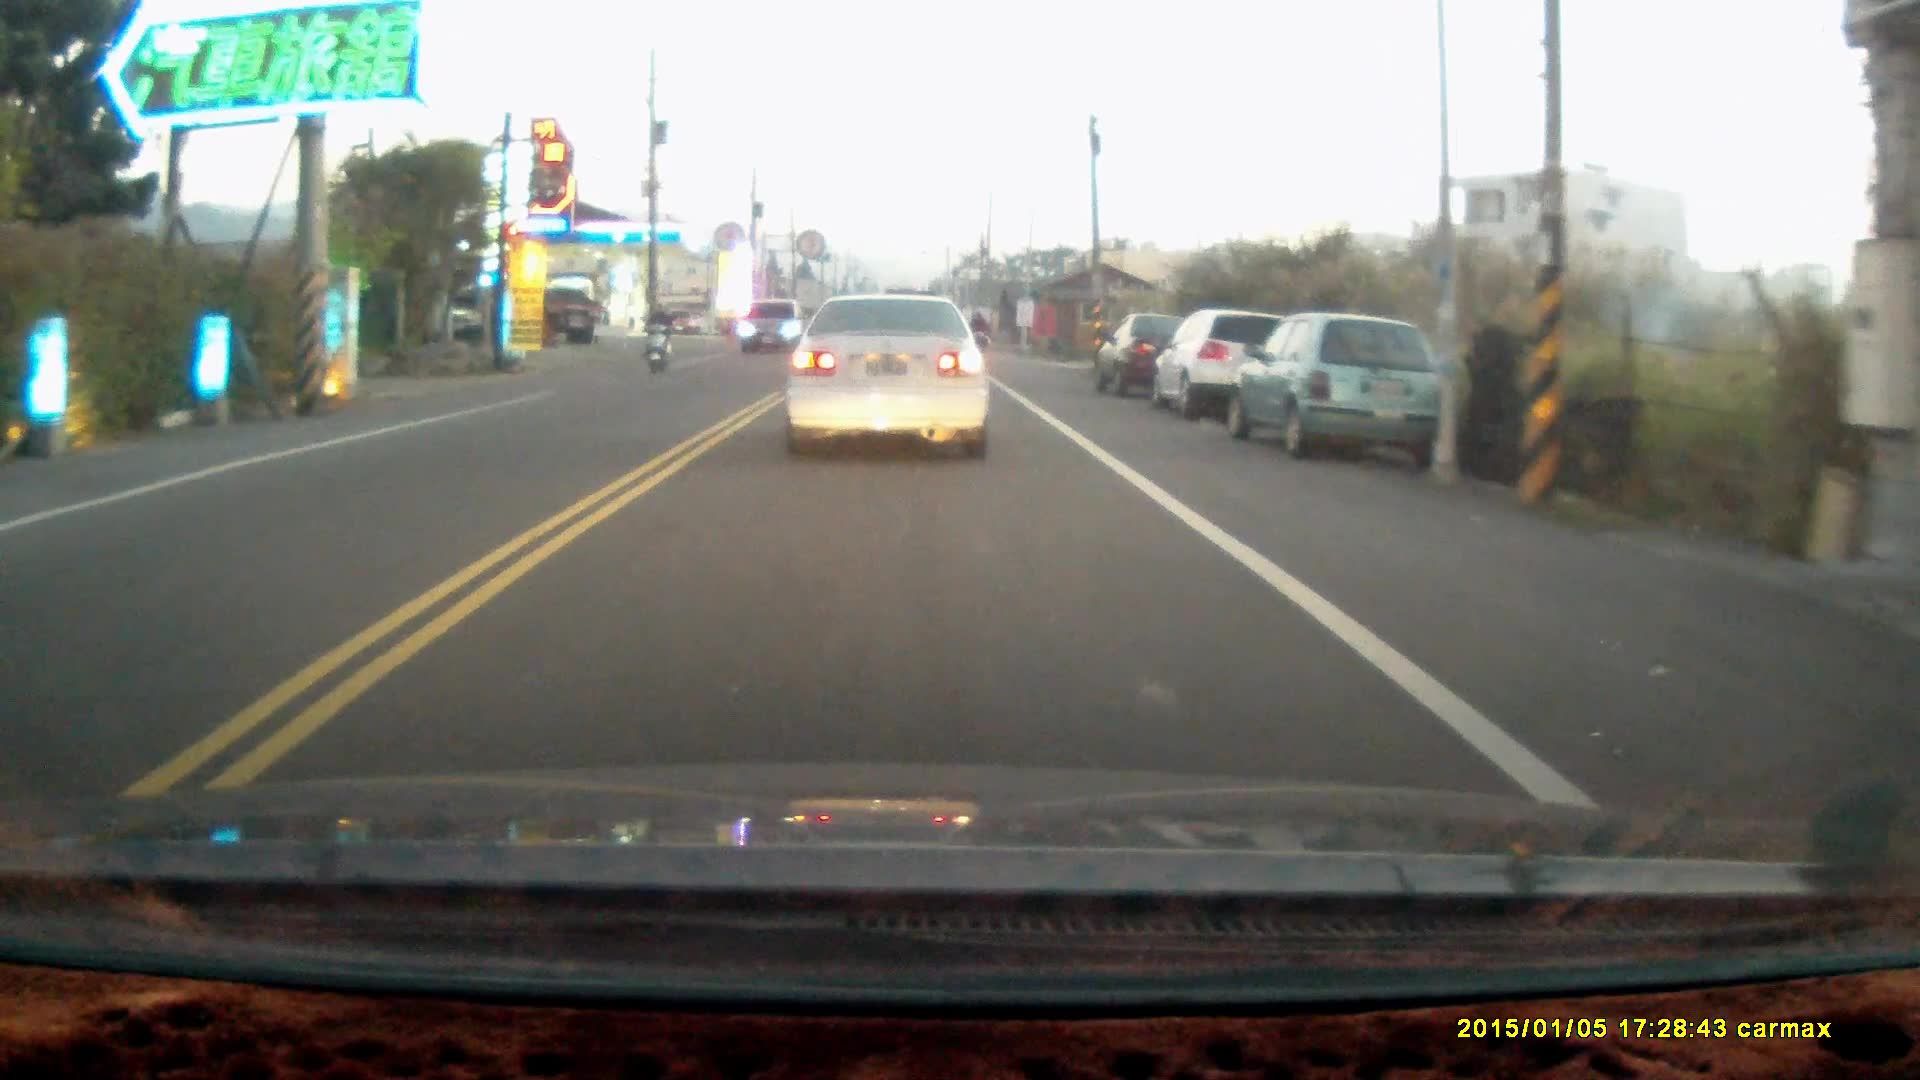rider: (641, 300, 673, 373)
vehicle: (786, 290, 997, 463), (1220, 311, 1449, 461), (1159, 308, 1288, 421), (1098, 312, 1195, 397), (743, 302, 808, 356)
